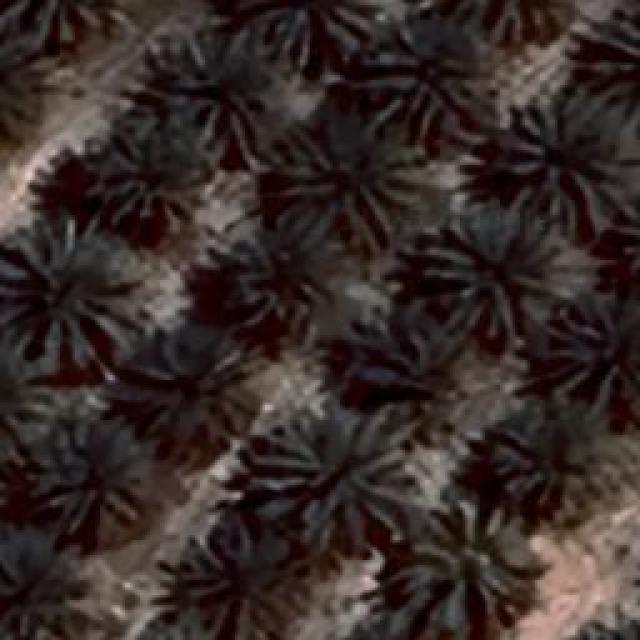PalmTree: (24, 77, 628, 236), (248, 404, 408, 538), (0, 217, 142, 364), (270, 110, 422, 240), (428, 202, 570, 340), (138, 24, 506, 77), (392, 490, 532, 628), (508, 90, 628, 228), (130, 332, 260, 450), (160, 30, 278, 160), (29, 420, 152, 540), (178, 530, 308, 638), (490, 394, 612, 508), (368, 17, 478, 125), (94, 130, 208, 220), (0, 527, 92, 637), (369, 319, 459, 429), (557, 308, 640, 406), (226, 242, 312, 336), (267, 0, 380, 62), (0, 15, 39, 158), (0, 350, 41, 466), (592, 16, 640, 99), (20, 0, 105, 45), (320, 613, 454, 640), (119, 614, 242, 640), (568, 598, 638, 638), (318, 622, 442, 640), (116, 623, 242, 640)
